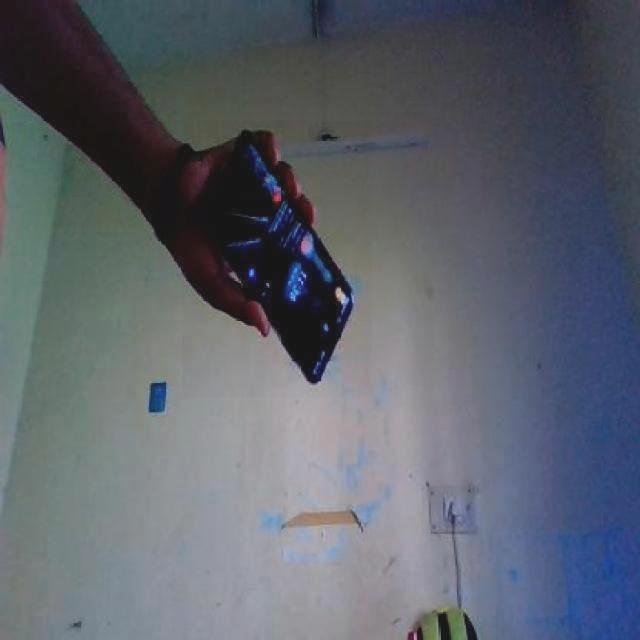phone: (183, 121, 372, 397)
